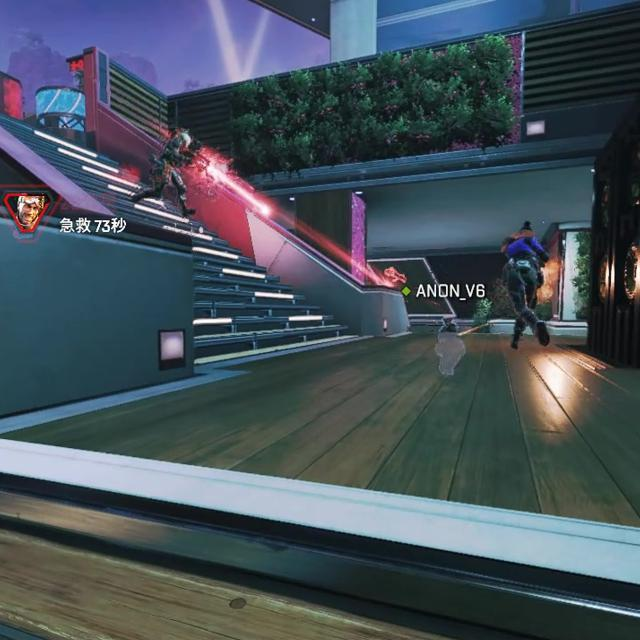avatar: (499, 223, 551, 351), (148, 128, 196, 221)
